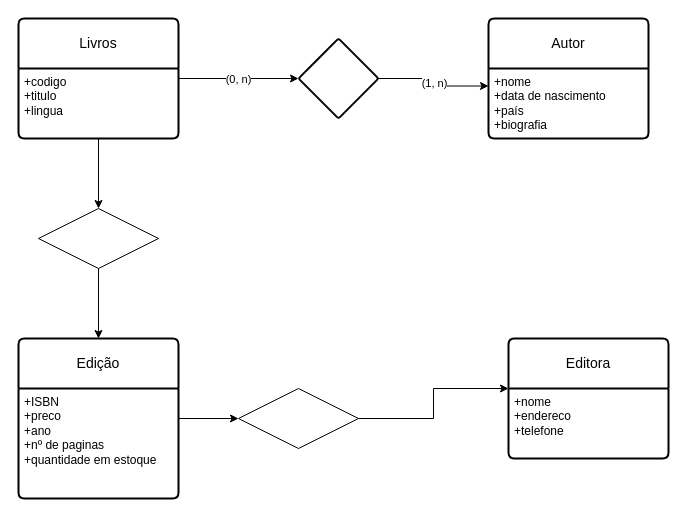
This 686x516 diagram has some shape labels left out. Each missing label, with the centre of its shape:
"Relationship" belongs at point (98, 238).
"Vincula" belongs at point (298, 418).
